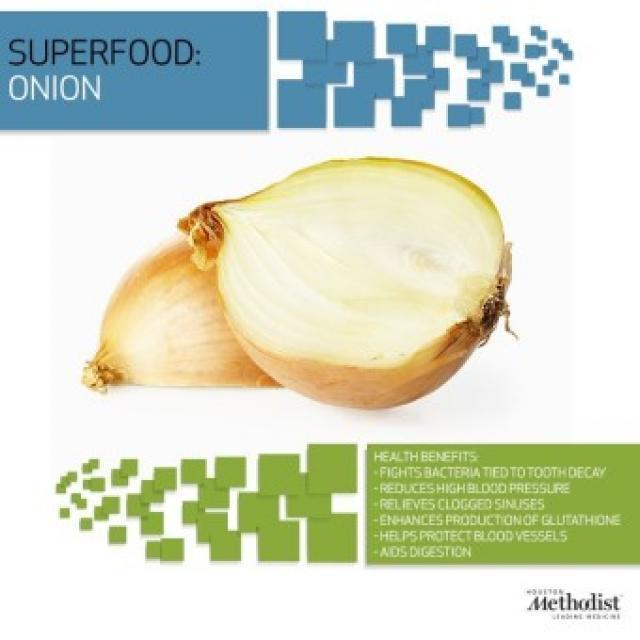onion: (203, 148, 538, 398), (97, 216, 266, 417)
